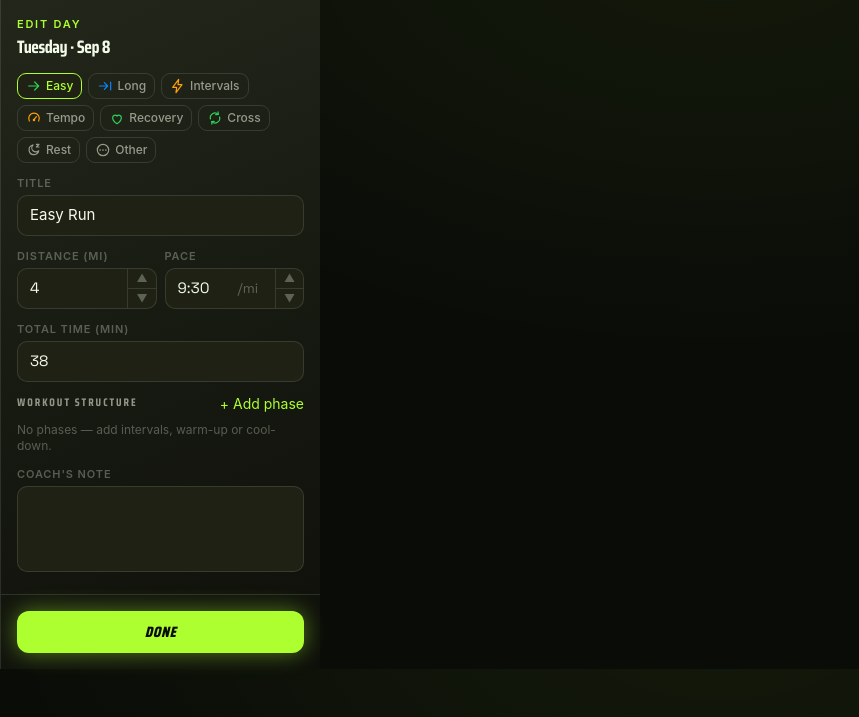
total time can be deleted to blank while editing (no snap-back to auto)
Clear the number field named "total time" at (160, 361), box [17,341,304,382]
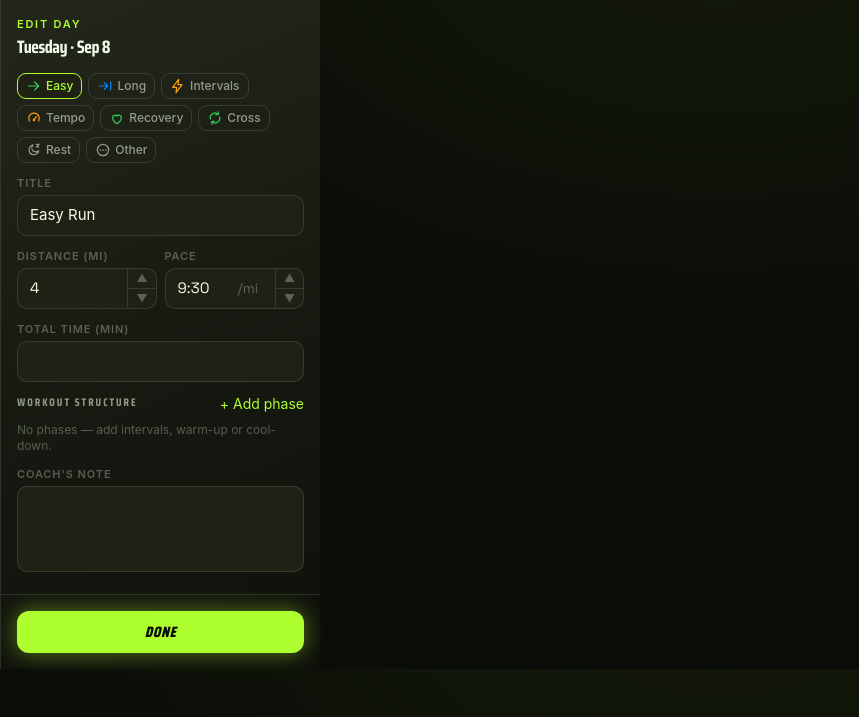
Leave the number field named "total time", box [17,341,304,382]
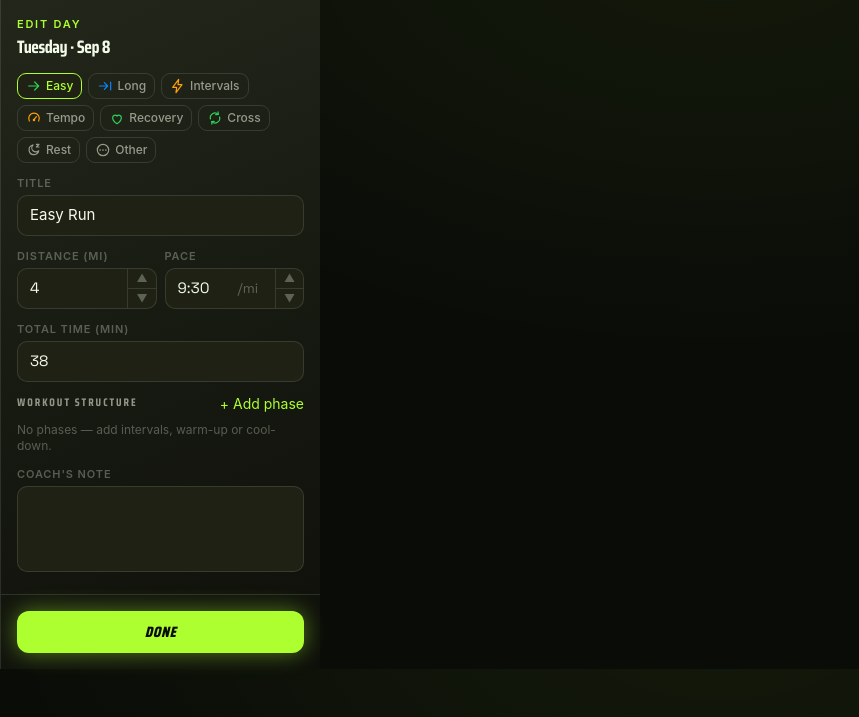
Result: the number field named "total time" holds "38" at [17,341,304,382]
